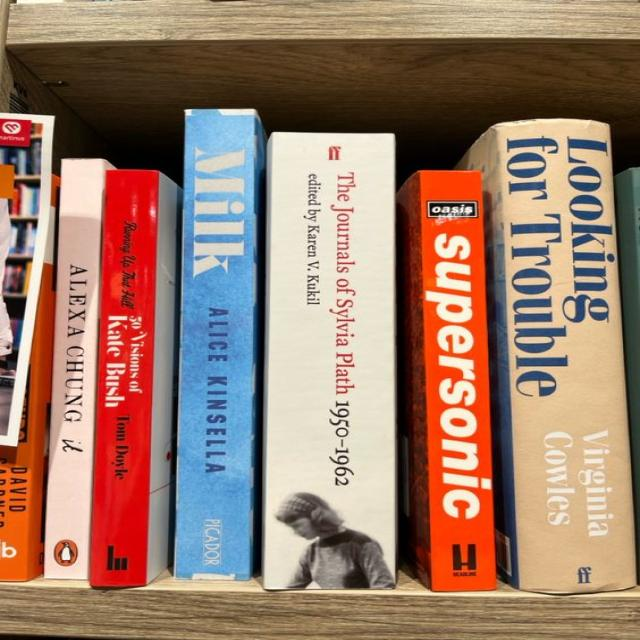book: (455, 119, 635, 593), (262, 132, 396, 588), (174, 109, 264, 580), (399, 170, 496, 590), (90, 171, 176, 587), (44, 159, 115, 580)
